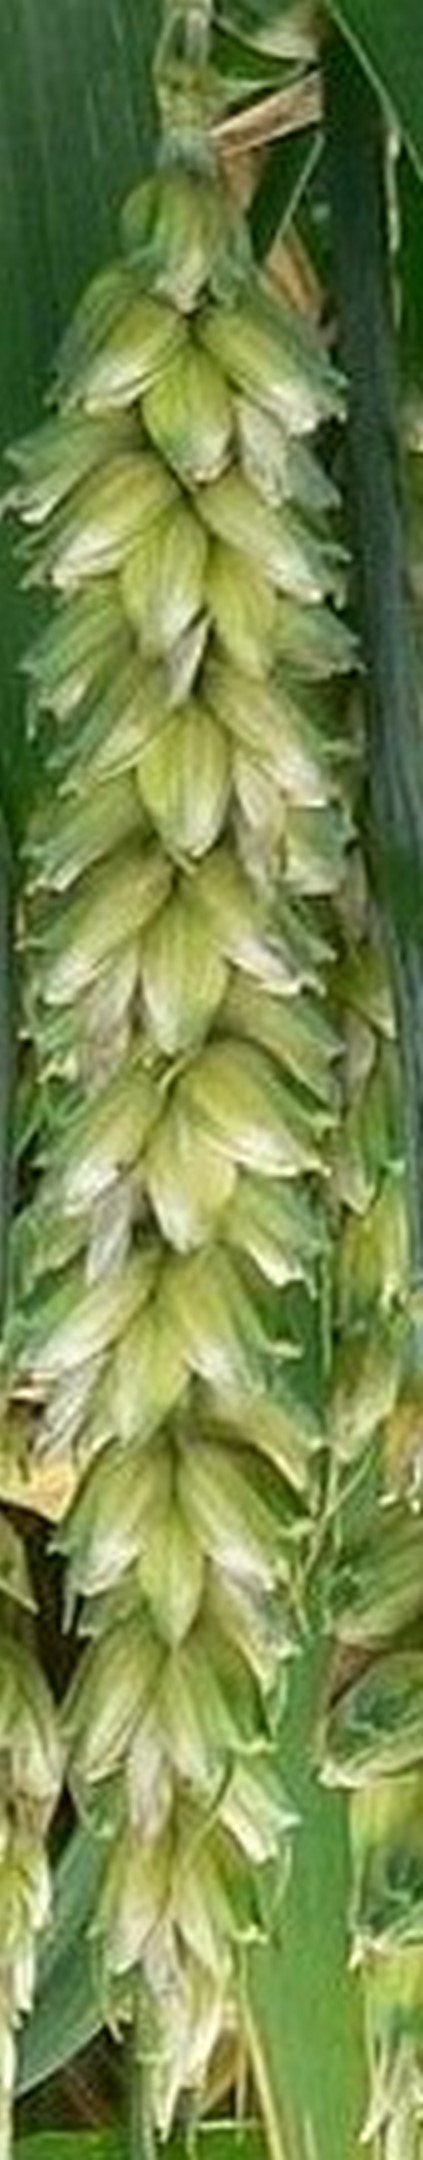Healthy Wheat: (7, 174, 354, 2104)
